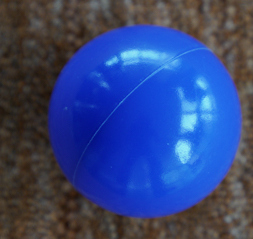Ball: (51, 26, 241, 217)
